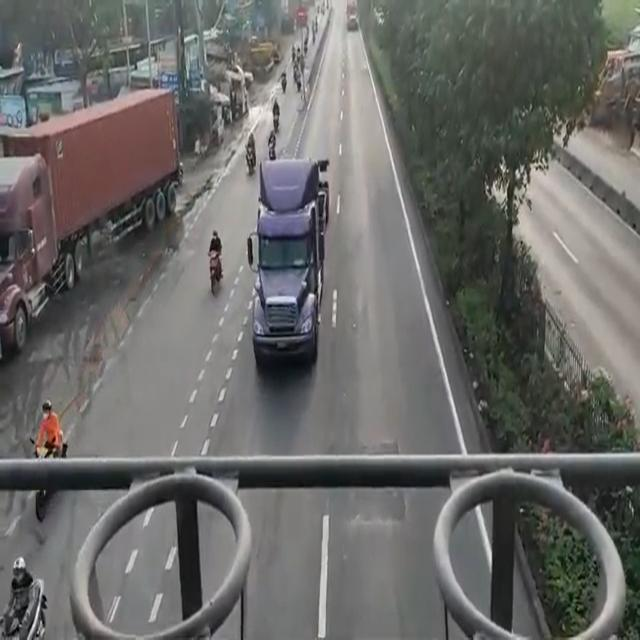motor: (2, 553, 44, 640), (27, 402, 67, 457), (206, 236, 221, 290)
truck: (0, 85, 175, 338), (254, 153, 328, 353)
